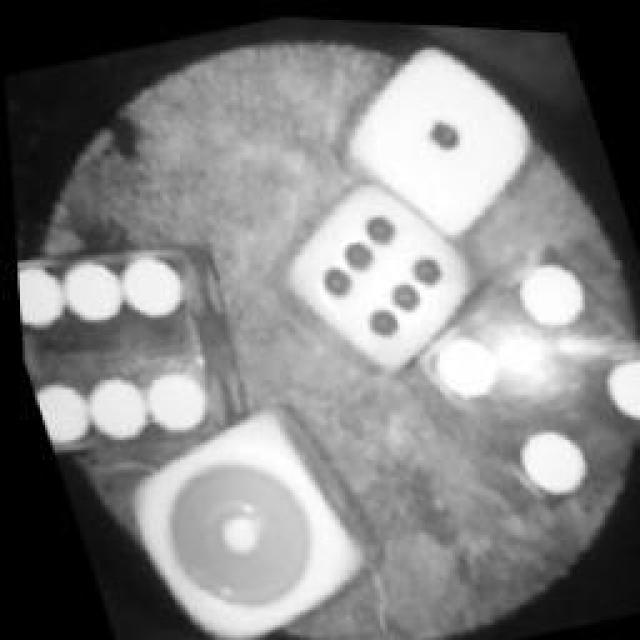dice_1: (98, 390, 380, 640), (320, 15, 558, 245)
dice_4: (397, 217, 640, 524)
dice_6: (10, 212, 250, 482), (272, 162, 492, 380)
